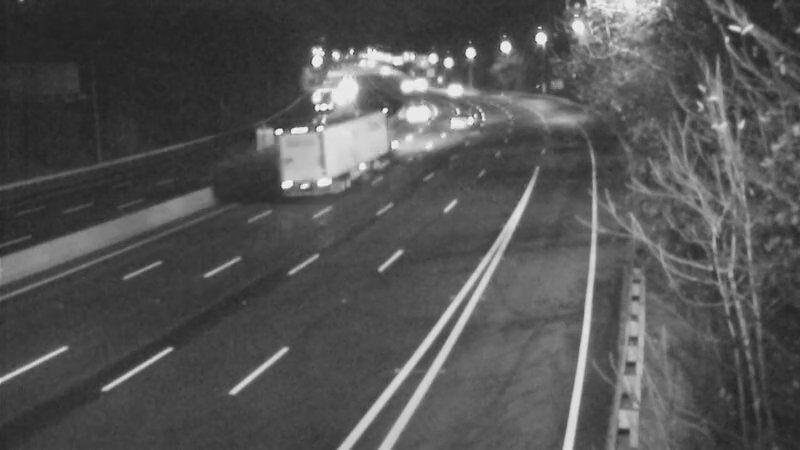vehicle: (285, 120, 365, 200), (429, 64, 479, 114), (436, 95, 486, 145), (392, 85, 442, 135), (294, 84, 344, 134)
